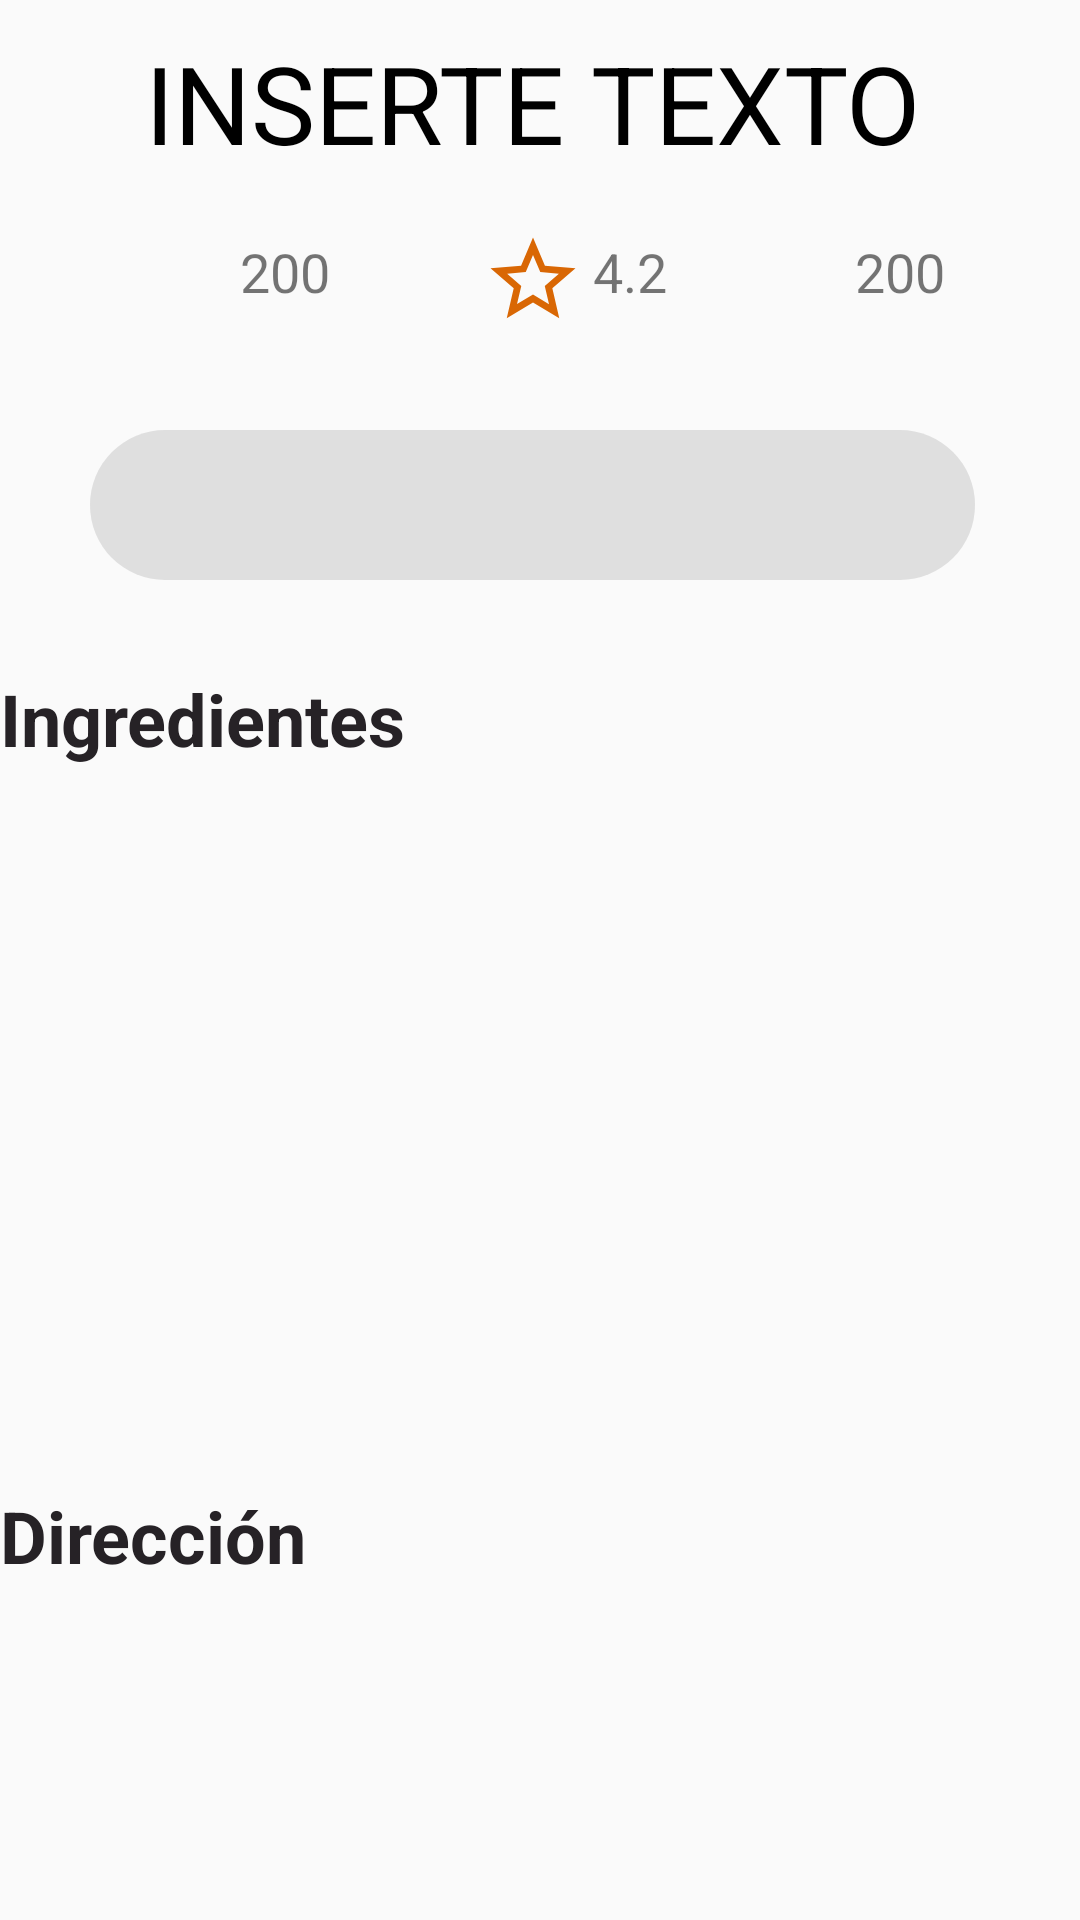

Icons on this 1080*1920 Android screen, each with the point to tap as point (x, y):
star border: point (533, 278)
